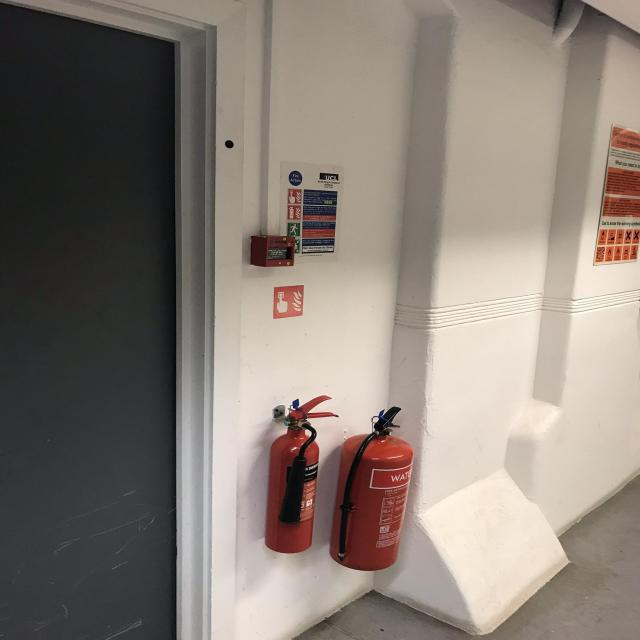fire_extinguisher: (324, 404, 418, 573), (259, 393, 341, 556)
